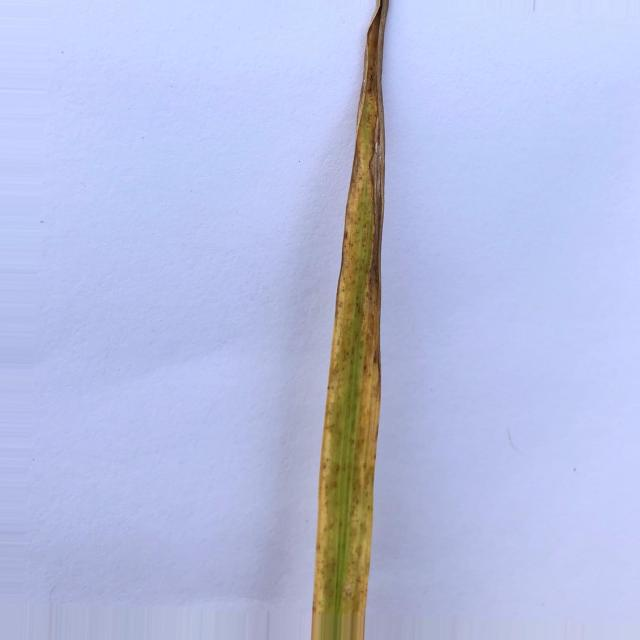Rice Tungro: (353, 254, 381, 489), (313, 430, 342, 613), (348, 90, 376, 249), (378, 111, 385, 259)
